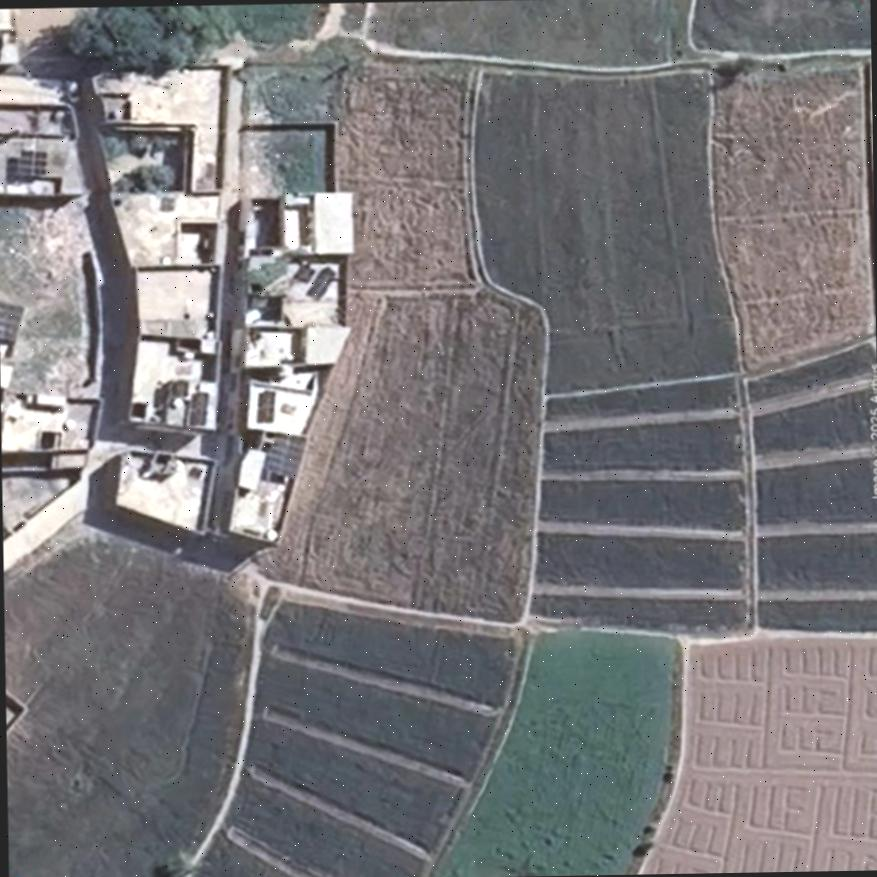Solarpanel: (262, 433, 304, 478), (0, 301, 24, 339), (15, 149, 46, 175)
